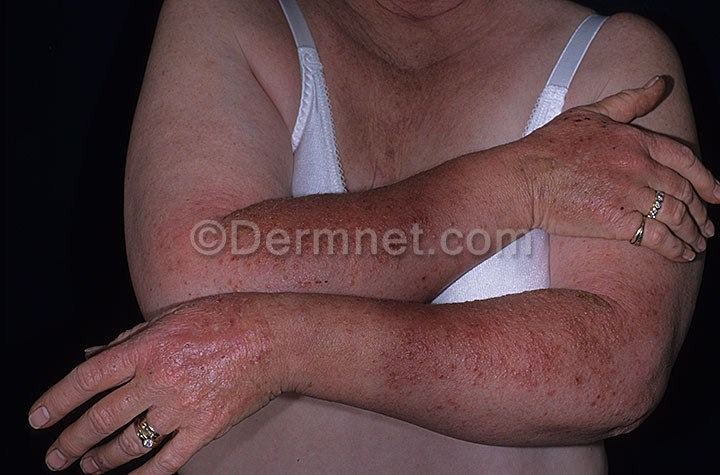Melasma: (389, 303, 667, 427), (152, 308, 322, 429), (142, 256, 392, 300), (552, 112, 631, 228)
